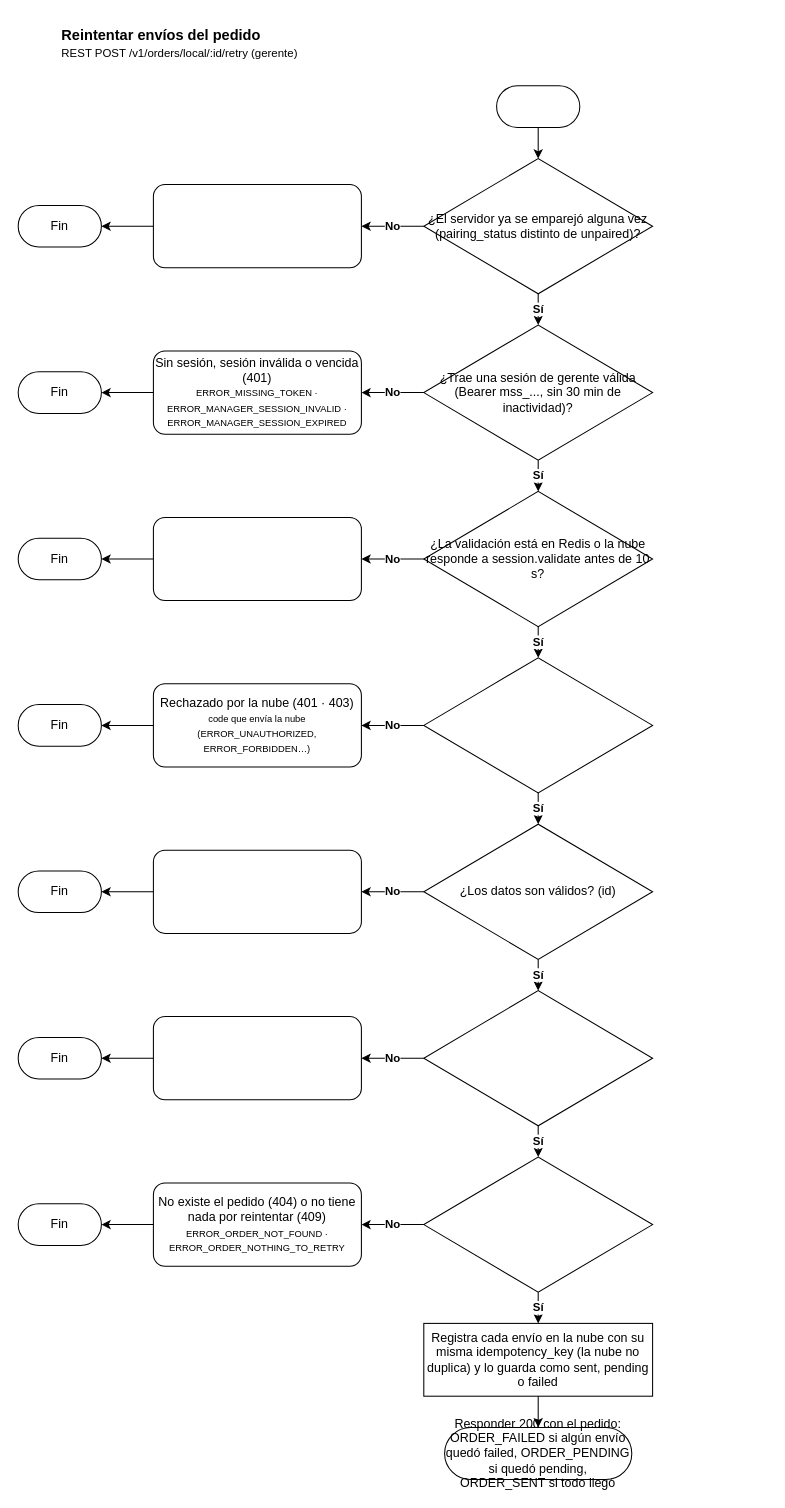
Image size: 785x1508. Some labels were removed from this diagram. Each missing label, with the centre of its shape:
Datos inválidos (400) ERROR_BAD_REQUEST: point (256, 891)
El pedido se está enviando (409) ERROR_ORDER_SENDING: point (256, 1058)
Inicio: point (538, 106)
La nube no responde (503) ERROR_CLOUD_UNAVAILABLE · ERROR_SERVER_UNLINKED: point (256, 558)
Servidor sin emparejar (409) ERROR_SERVER_NOT_PAIRED: point (256, 226)
¿El pedido no se está enviando ya?: point (538, 1058)
¿La nube acepta la sesión del gerente con este servidor?: point (538, 725)
¿Quedan envíos pending o failed?: point (538, 1224)
